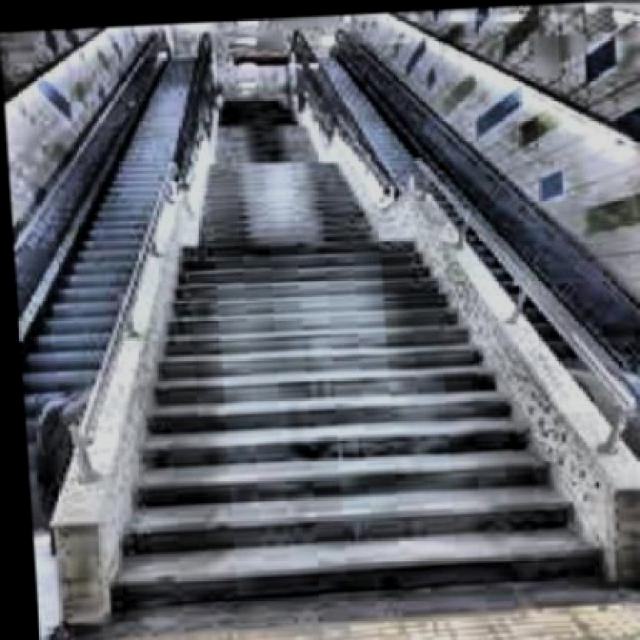stair: (48, 224, 574, 628)
